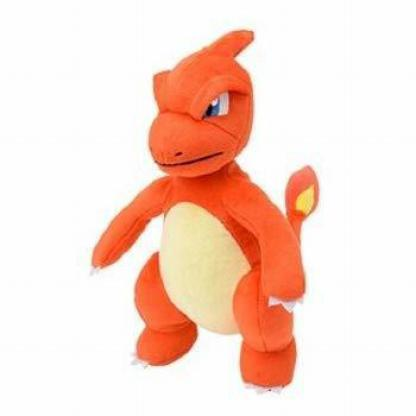Charmeleon: (21, 44, 416, 416)
